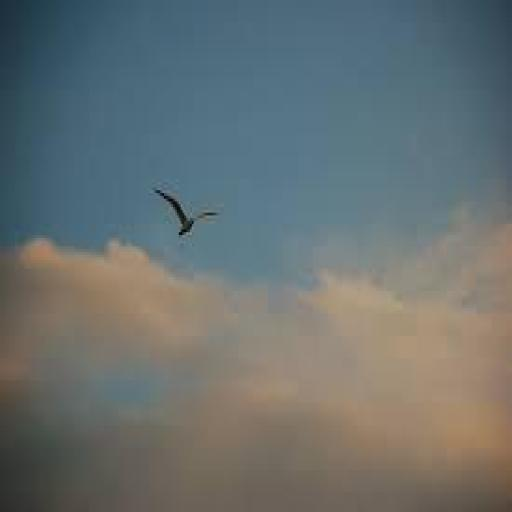birds: (155, 191, 221, 242)
